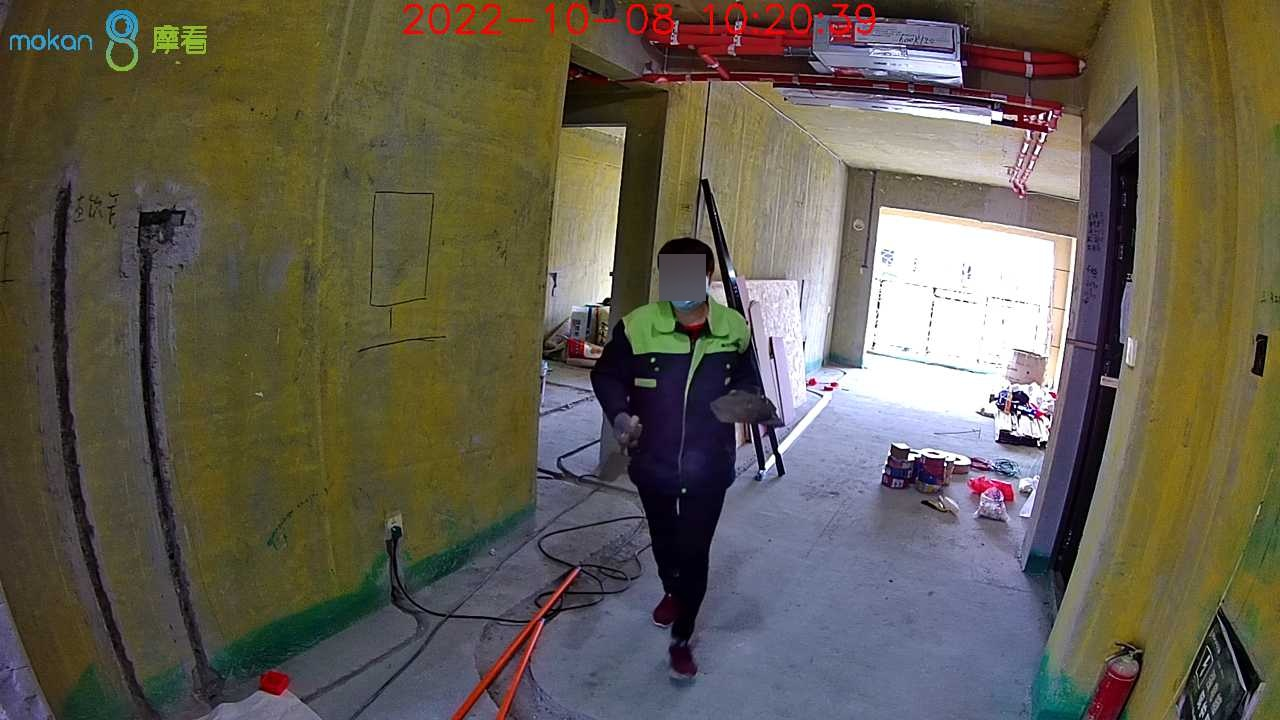people: (589, 238, 768, 684)
window: (870, 209, 1055, 365)
